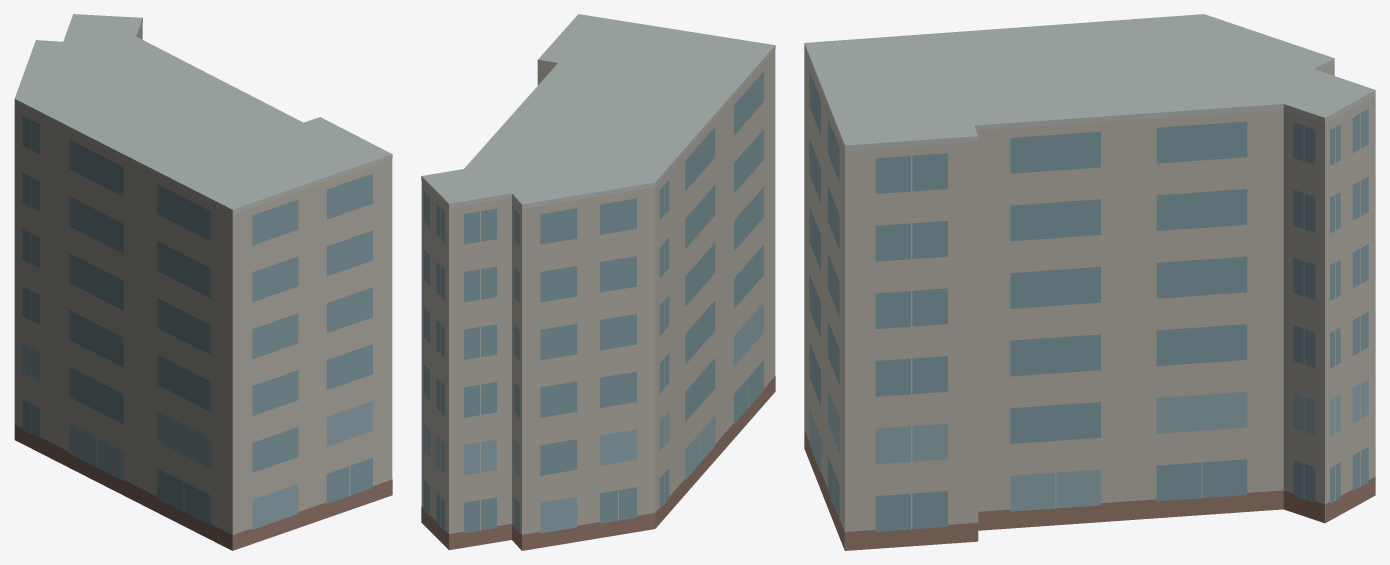
Rendered from survey-upis-32989849.glb.
3 views of the same model, side by side, from view 1: azimuth 30°, elevation 25°; view 2: azimuth 150°, elevation 25°; view 3: azimuth 270°, elevation 25° (orthographic). The views are drawn at different scales.
Parts seen in each view (by area): view 1: survey-upis-32989849.tmp; view 2: survey-upis-32989849.tmp; view 3: survey-upis-32989849.tmp.
Part boxes in pixels (x1,y1,x2,y2): survey-upis-32989849.tmp: (14, 14, 392, 550); survey-upis-32989849.tmp: (421, 14, 775, 550); survey-upis-32989849.tmp: (804, 14, 1375, 550).
Bounding box in the file's own units: 12.8 × 18.4 × 23.5.
